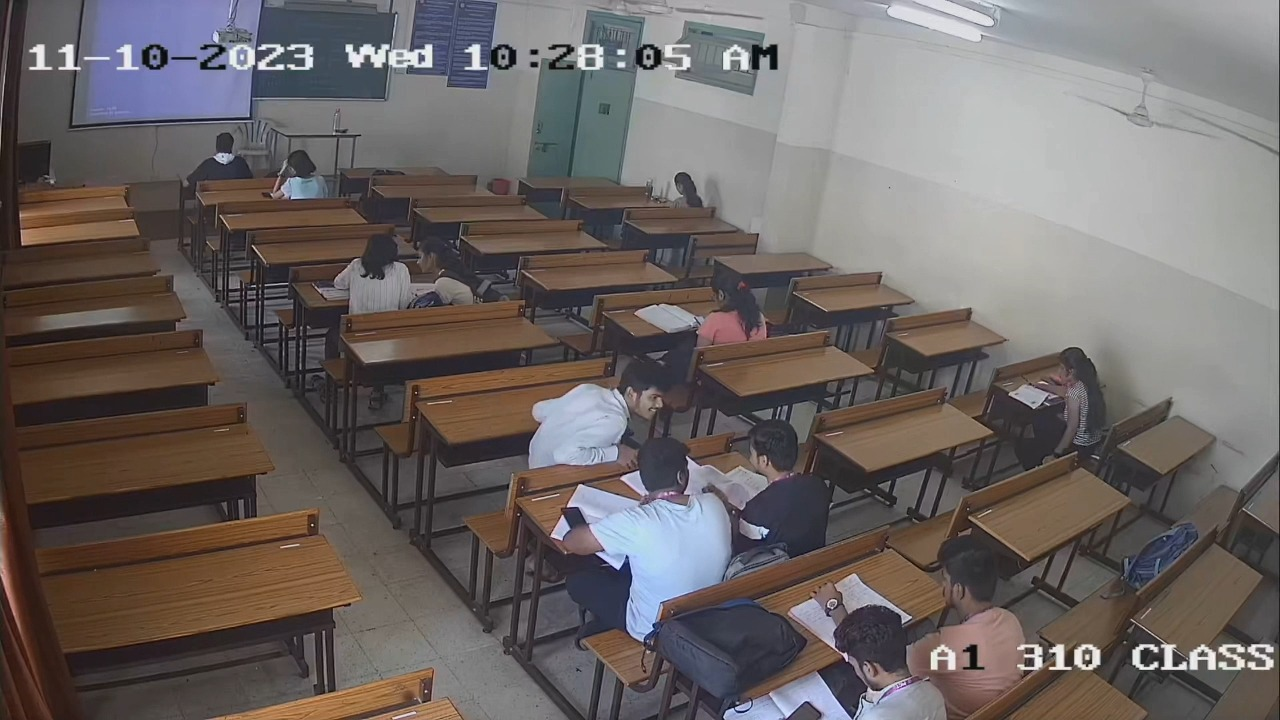cell-phones: (779, 701, 824, 720), (561, 502, 587, 533), (650, 193, 669, 205), (693, 313, 707, 326), (260, 190, 274, 200)
person: (564, 438, 733, 597), (827, 599, 951, 720), (692, 273, 767, 362), (271, 147, 333, 199), (669, 171, 706, 209)
